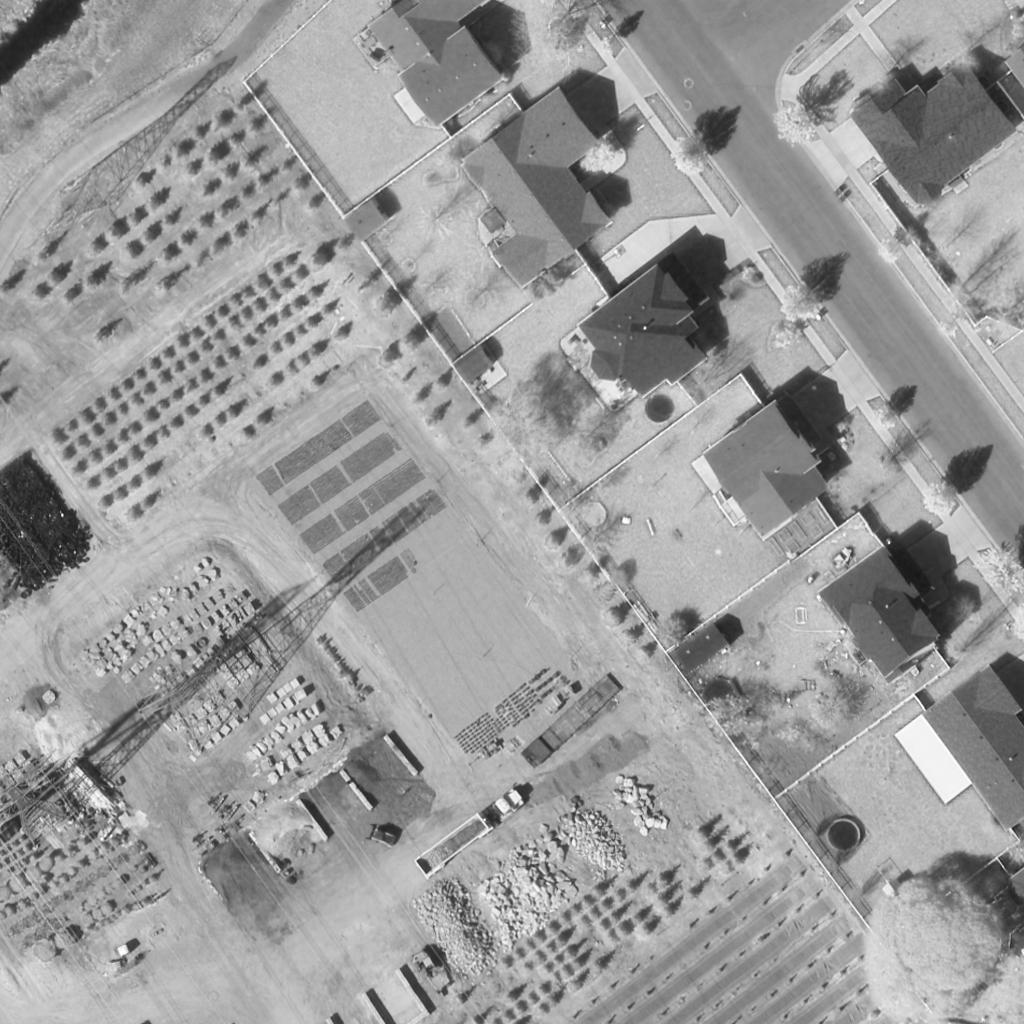vehicle: (414, 787, 526, 879), (410, 951, 452, 999), (363, 824, 401, 852)
